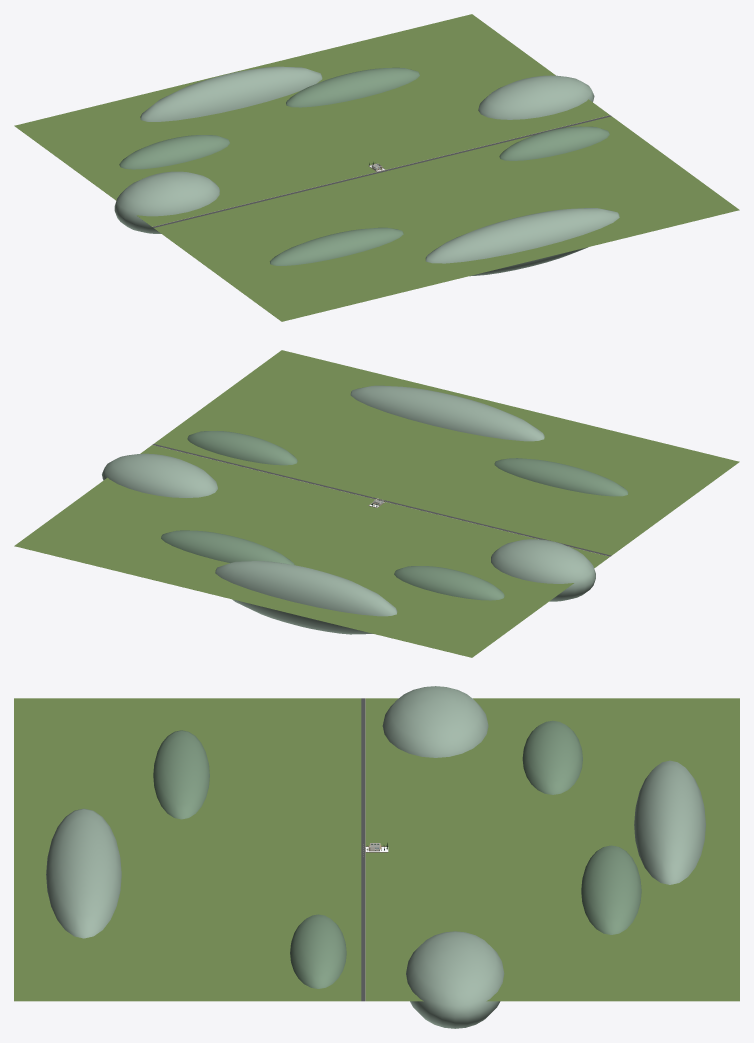
Rendered from exterior.glb.
3 views of the same model, one above another, from view 1: azimuth 30°, elevation 25°; view 2: azimuth 150°, elevation 25°; view 3: azimuth 270°, elevation 25° (orthographic). The views are drawn at different scales.
Visible parts, largest first — view 1: web.exterior.architecture.context, web.exterior.architecture.ridge_far, web.exterior.architecture.ridge_near, web.exterior.context.road; view 2: web.exterior.architecture.context, web.exterior.architecture.ridge_far, web.exterior.architecture.ridge_near, web.exterior.context.road; view 3: web.exterior.architecture.context, web.exterior.architecture.ridge_far, web.exterior.architecture.ridge_near, web.exterior.context.road.
Part boxes in pixels (x1=…): web.exterior.architecture.context: x1=14, y1=14, x2=739, y2=321; web.exterior.architecture.ridge_far: x1=114, y1=66, x2=619, y2=276; web.exterior.architecture.ridge_near: x1=119, y1=67, x2=609, y2=265; web.exterior.context.road: x1=152, y1=115, x2=611, y2=227; web.exterior.architecture.context: x1=14, y1=350, x2=739, y2=657; web.exterior.architecture.ridge_far: x1=102, y1=385, x2=595, y2=634; web.exterior.architecture.ridge_near: x1=161, y1=431, x2=628, y2=600; web.exterior.context.road: x1=152, y1=444, x2=611, y2=556; web.exterior.architecture.context: x1=14, y1=698, x2=739, y2=1001; web.exterior.architecture.ridge_far: x1=46, y1=686, x2=705, y2=1028; web.exterior.architecture.ridge_near: x1=153, y1=720, x2=641, y2=988; web.exterior.context.road: x1=361, y1=698, x2=365, y2=1001.
Size of the model in its own units: 1173 by 128 by 1133.
28 materials, 6 textured.
